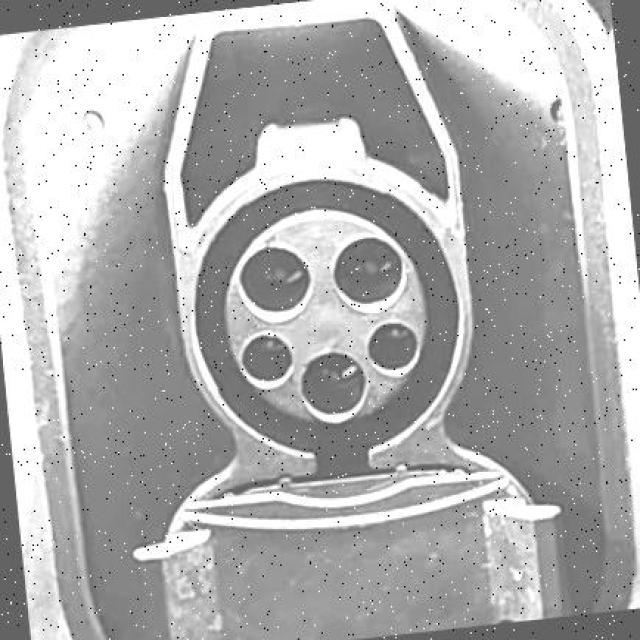Type 1: (192, 212, 466, 430)
